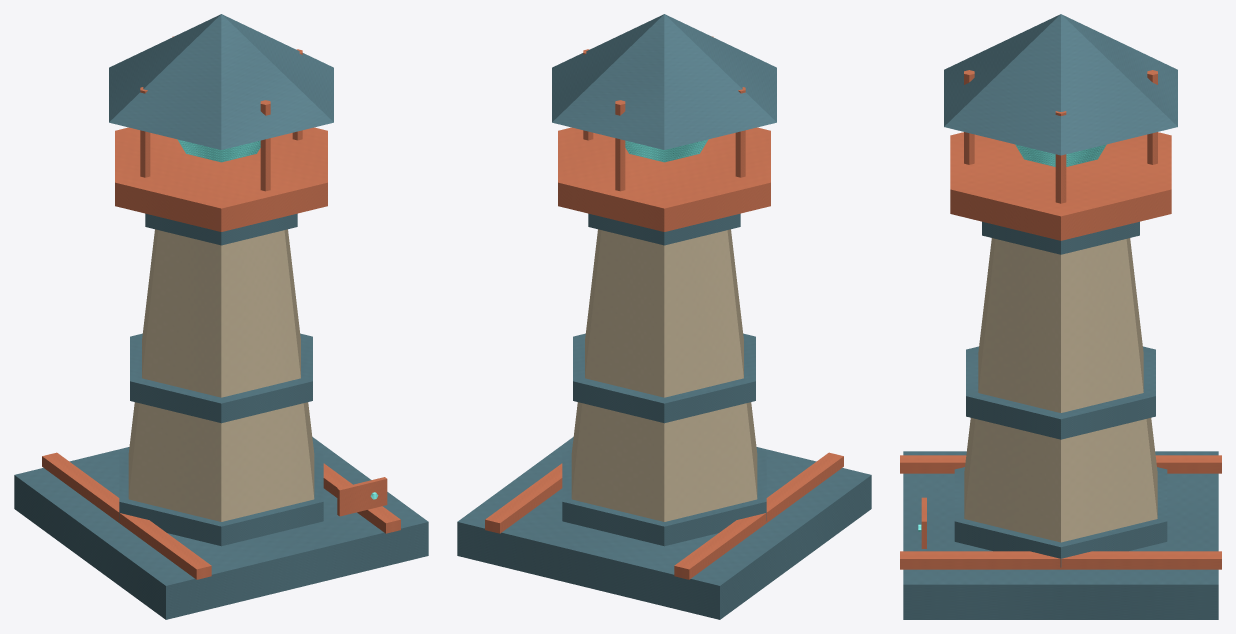
The model's file is atlas100-s049-a01.lod1.glb.
3 views of the same model, side by side, from view 1: azimuth 30°, elevation 25°; view 2: azimuth 150°, elevation 25°; view 3: azimuth 270°, elevation 25° (orthographic). The views are drawn at different scales.
Parts seen in each view (by area): view 1: atlas100-s049-a01:part-003, atlas100-s049-a01:part-000, atlas100-s049-a01:part-013, atlas100-s049-a01:part-007, atlas100-s049-a01:part-005, atlas100-s049-a01:part-004, atlas100-s049-a01:part-001, atlas100-s049-a01:part-006, atlas100-s049-a01:part-014, atlas100-s049-a01:part-002, atlas100-s049-a01:part-008, atlas100-s049-a01:part-010; view 2: atlas100-s049-a01:part-003, atlas100-s049-a01:part-000, atlas100-s049-a01:part-013, atlas100-s049-a01:part-007, atlas100-s049-a01:part-005, atlas100-s049-a01:part-004, atlas100-s049-a01:part-001, atlas100-s049-a01:part-006, atlas100-s049-a01:part-002, atlas100-s049-a01:part-008, atlas100-s049-a01:part-012; view 3: atlas100-s049-a01:part-003, atlas100-s049-a01:part-000, atlas100-s049-a01:part-013, atlas100-s049-a01:part-007, atlas100-s049-a01:part-005, atlas100-s049-a01:part-002, atlas100-s049-a01:part-004, atlas100-s049-a01:part-001, atlas100-s049-a01:part-006, atlas100-s049-a01:part-008, atlas100-s049-a01:part-009, atlas100-s049-a01:part-010 (+1 smaller).
Boxes of the visible parts, <box> form: atlas100-s049-a01:part-003: <box>128,229,314,521</box>; atlas100-s049-a01:part-000: <box>14,437,428,619</box>; atlas100-s049-a01:part-013: <box>109,14,333,149</box>; atlas100-s049-a01:part-007: <box>115,127,327,231</box>; atlas100-s049-a01:part-005: <box>130,333,312,423</box>; atlas100-s049-a01:part-004: <box>119,449,323,546</box>; atlas100-s049-a01:part-001: <box>42,452,211,579</box>; atlas100-s049-a01:part-006: <box>145,213,297,245</box>; atlas100-s049-a01:part-014: <box>337,477,387,516</box>; atlas100-s049-a01:part-002: <box>323,463,400,533</box>; atlas100-s049-a01:part-008: <box>177,139,260,162</box>; atlas100-s049-a01:part-010: <box>260,100,270,191</box>; atlas100-s049-a01:part-003: <box>571,229,757,521</box>; atlas100-s049-a01:part-000: <box>457,437,871,619</box>; atlas100-s049-a01:part-013: <box>552,14,776,149</box>; atlas100-s049-a01:part-007: <box>558,127,770,231</box>; atlas100-s049-a01:part-005: <box>573,333,755,423</box>; atlas100-s049-a01:part-004: <box>562,449,766,546</box>; atlas100-s049-a01:part-001: <box>674,452,843,579</box>; atlas100-s049-a01:part-006: <box>588,213,740,245</box>; atlas100-s049-a01:part-002: <box>485,463,562,533</box>; atlas100-s049-a01:part-008: <box>625,139,708,162</box>; atlas100-s049-a01:part-012: <box>615,100,625,191</box>; atlas100-s049-a01:part-003: <box>964,238,1157,542</box>; atlas100-s049-a01:part-000: <box>903,451,1218,619</box>; atlas100-s049-a01:part-013: <box>944,14,1177,155</box>; atlas100-s049-a01:part-007: <box>950,132,1171,240</box>; atlas100-s049-a01:part-005: <box>966,346,1155,439</box>; atlas100-s049-a01:part-002: <box>900,551,1221,569</box>; atlas100-s049-a01:part-004: <box>954,467,1167,567</box>; atlas100-s049-a01:part-001: <box>900,455,1221,473</box>; atlas100-s049-a01:part-006: <box>982,221,1139,254</box>; atlas100-s049-a01:part-008: <box>1015,144,1106,166</box>; atlas100-s049-a01:part-009: <box>1055,111,1066,203</box>; atlas100-s049-a01:part-010: <box>964,70,974,164</box>.
Bounding box in the file's own units: 2.1 × 3.96 × 2.14.
4 materials, 4 textured.
